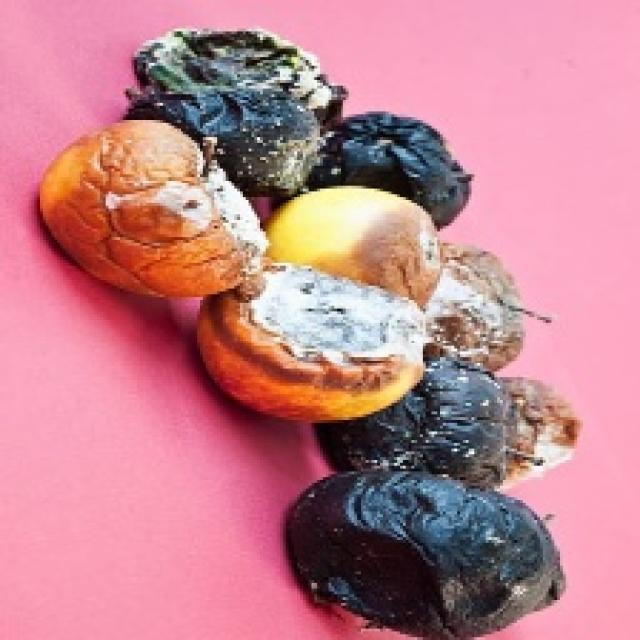rotten_apple: (39, 122, 252, 293), (289, 478, 522, 633), (210, 276, 426, 412), (264, 189, 448, 284), (138, 31, 334, 114), (332, 116, 471, 207), (448, 242, 524, 368)
